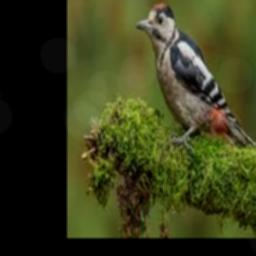Woodpecker: (136, 2, 256, 150)
